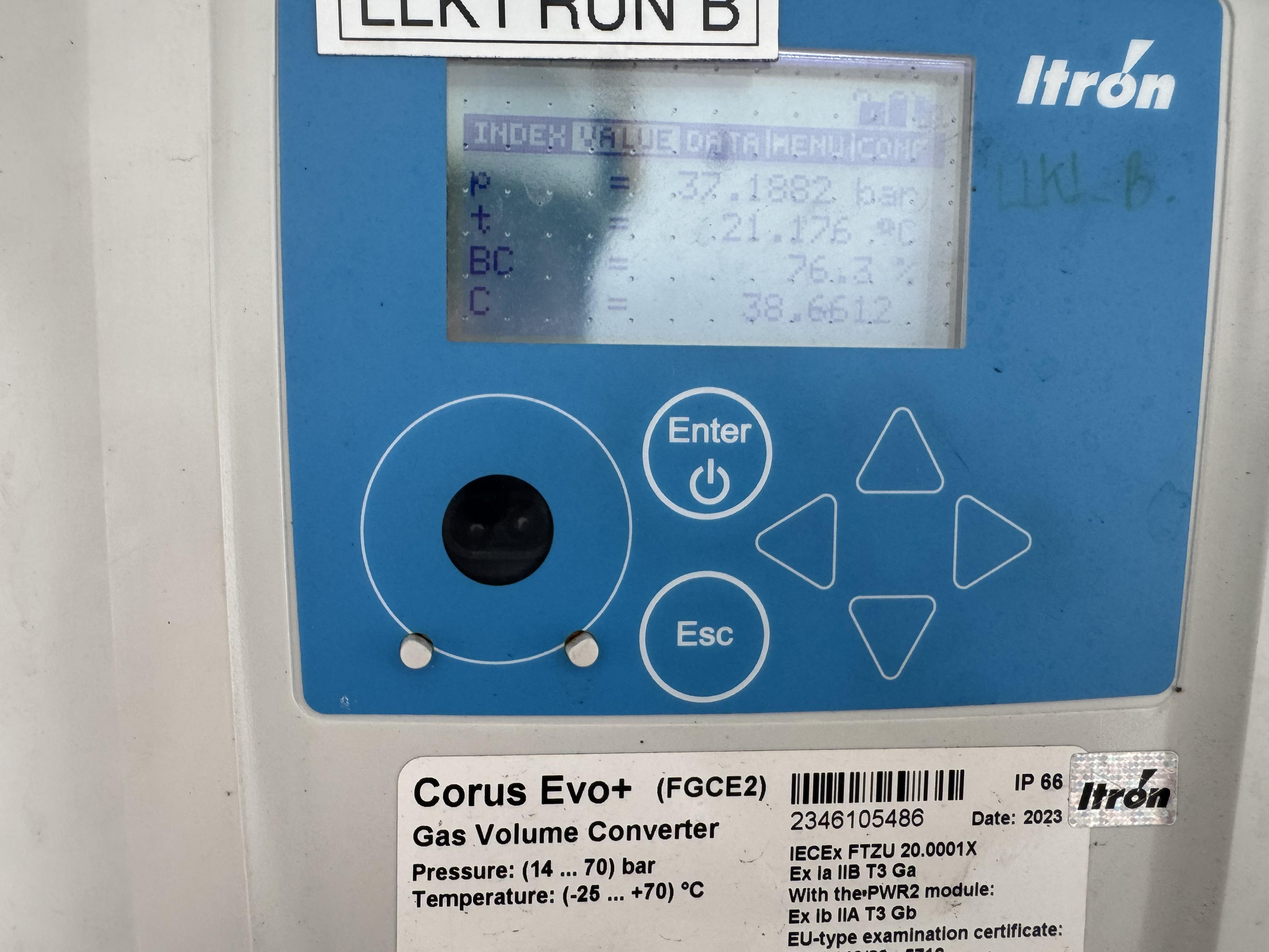digital_screen: (443, 38, 976, 348)
